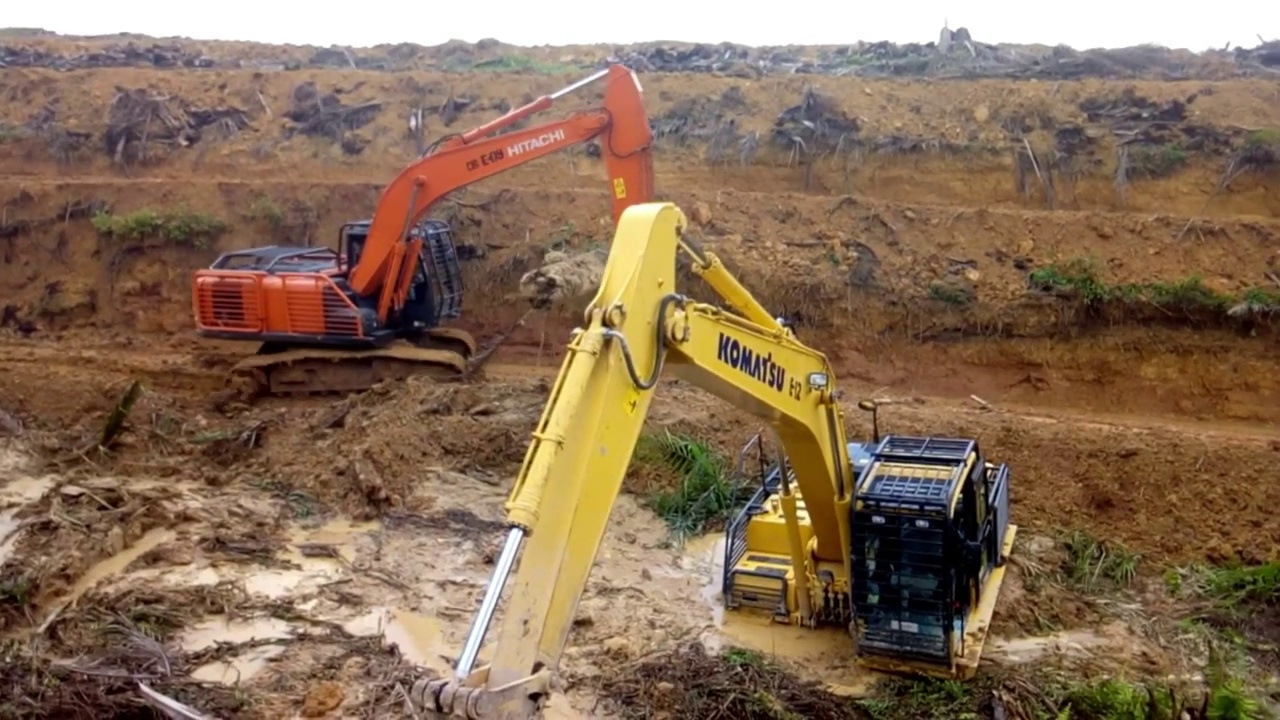excavator: (424, 201, 1018, 720), (190, 63, 660, 397)
